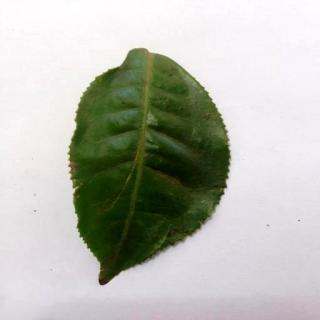Algal Leaf: (71, 50, 232, 288)
